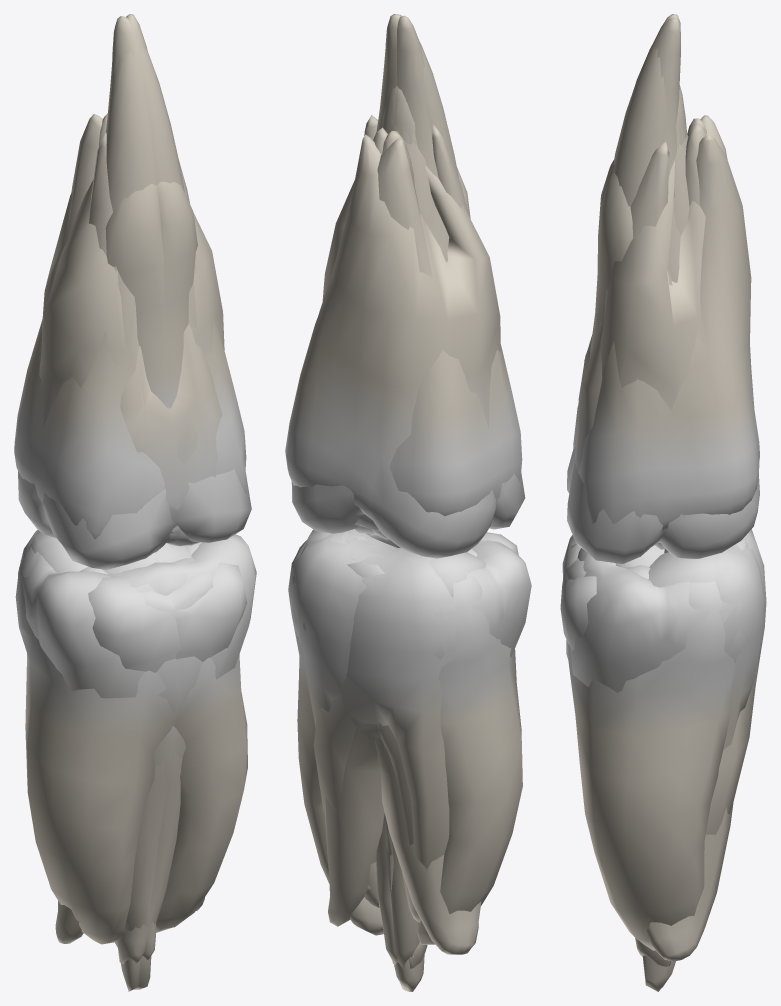
Rendered from teeth.glb.
3 views of the same model, side by side, from view 1: azimuth 30°, elevation 25°; view 2: azimuth 150°, elevation 25°; view 3: azimuth 270°, elevation 25° (orthographic).
Visible parts, largest first — view 1: T36, T16, T46, T26, T47, T14, T27, T23, T24, T37, T45, T35 (+2 smaller); view 2: T26, T36, T37, T16, T46, T47, T13, T23, T45, T35, T11, T22 (+2 smaller); view 3: T26, T46, T16, T36, T37, T47, T13, T24, T23, T27, T14, T21 (+2 smaller).
Boxes of the visible parts, box(x1,y1,x2,y2) form: T36: box(15, 534, 256, 944); T16: box(14, 114, 251, 543); T46: box(20, 530, 247, 943); T26: box(18, 161, 246, 569); T47: box(26, 531, 214, 672); T14: box(105, 184, 179, 407); T27: box(127, 324, 222, 552); T23: box(106, 14, 156, 212); T24: box(99, 114, 197, 408); T37: box(18, 530, 247, 661); T45: box(115, 543, 191, 960); T35: box(102, 548, 182, 963); T26: box(285, 115, 525, 558); T36: box(291, 532, 522, 944); T37: box(301, 529, 456, 907); T16: box(291, 124, 522, 533); T46: box(288, 540, 531, 954); T47: box(289, 532, 518, 922); T13: box(397, 15, 449, 262); T23: box(376, 14, 458, 176); T45: box(347, 560, 419, 967); T35: box(349, 564, 427, 968); T11: box(409, 142, 433, 230); T22: box(381, 86, 415, 144); T26: box(567, 135, 759, 532); T46: box(568, 551, 735, 950); T16: box(567, 115, 759, 563); T36: box(566, 548, 755, 961); T37: box(560, 529, 766, 834); T47: box(562, 535, 764, 750); T13: box(614, 14, 680, 206); T24: box(590, 118, 706, 357); T23: box(614, 17, 681, 282); T27: box(575, 320, 660, 542); T14: box(589, 123, 706, 358); T21: box(661, 133, 689, 548).
Size of the model in its own units: 0.0128 by 0.0574 by 0.011.
